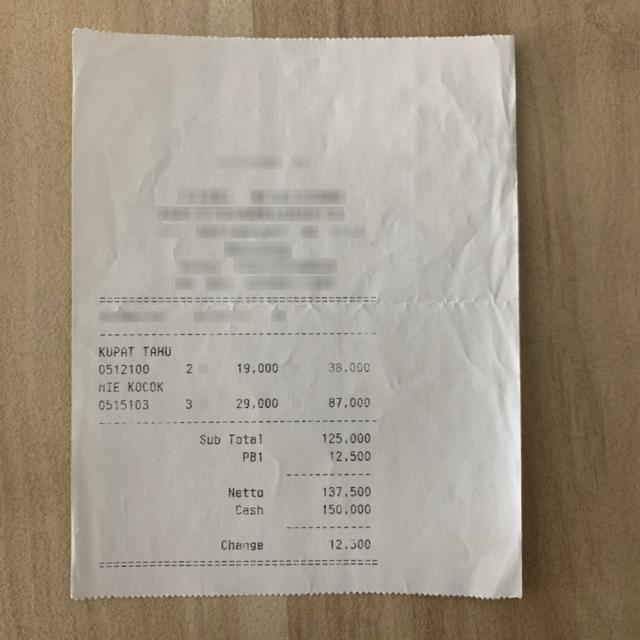kertas: (72, 30, 522, 599)
